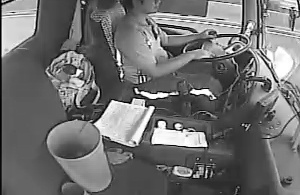cup: (155, 118, 170, 131)
